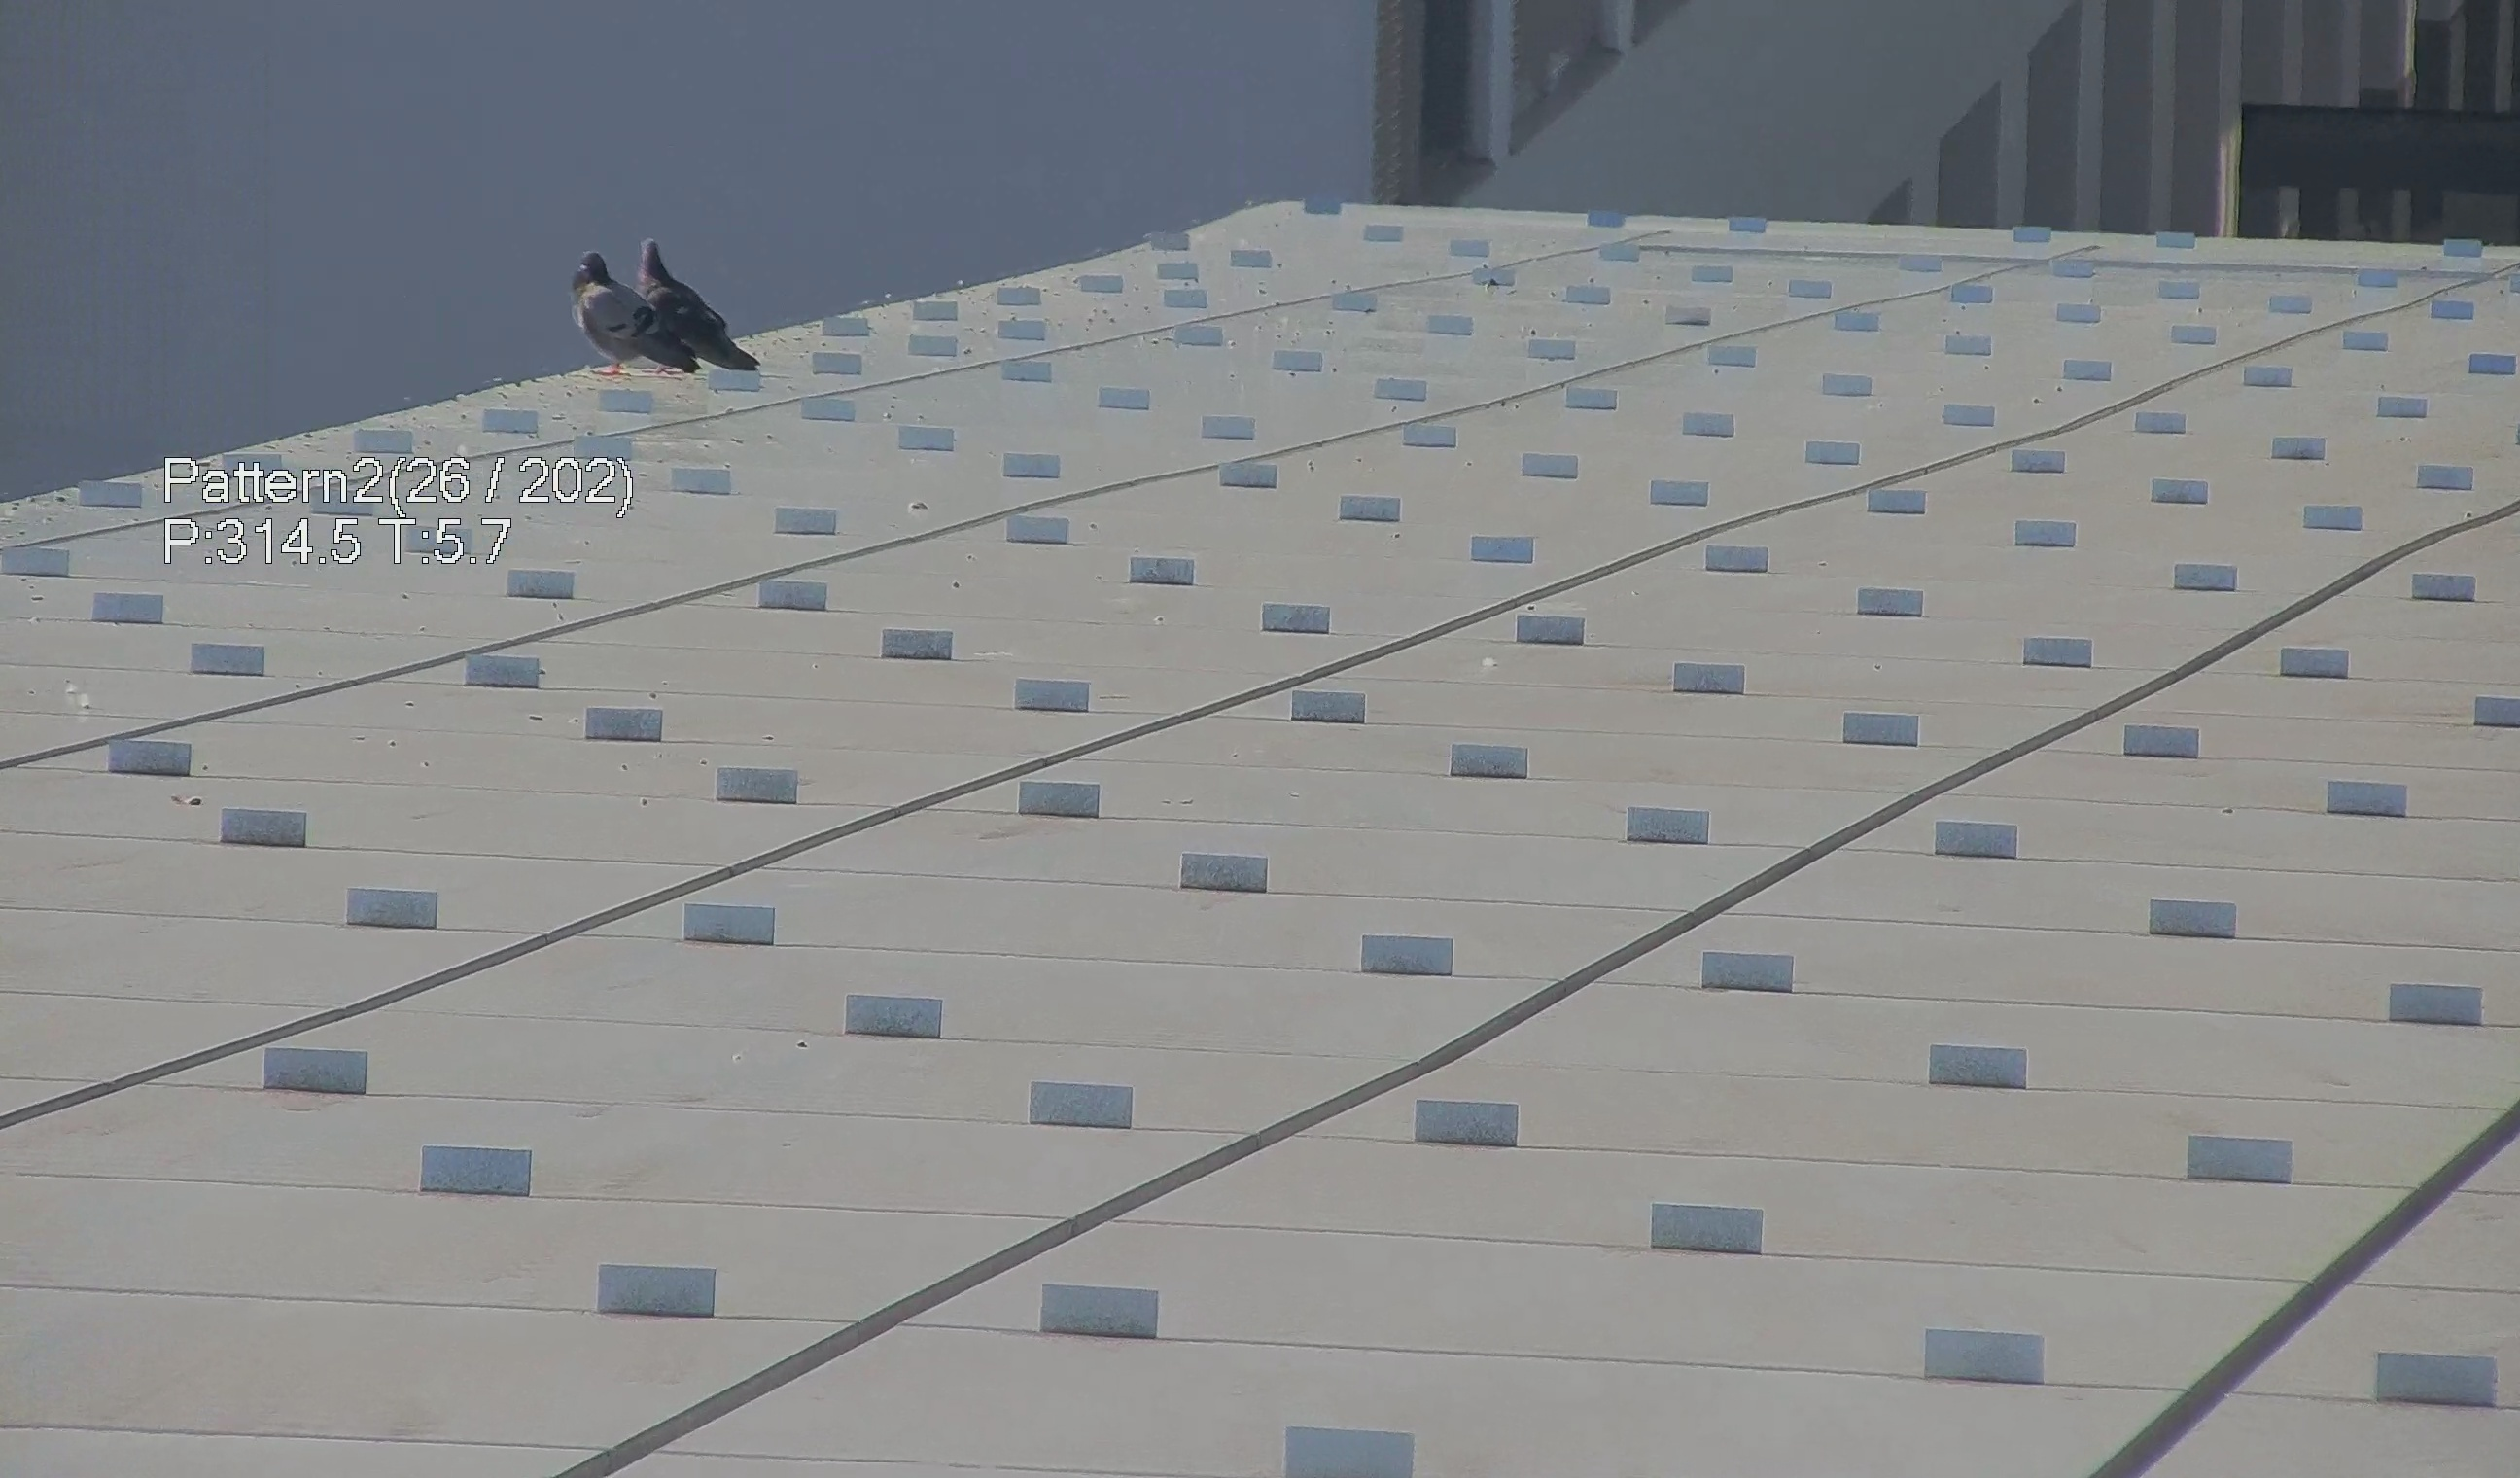Pigeon: (615, 225, 742, 364), (547, 234, 665, 369)
